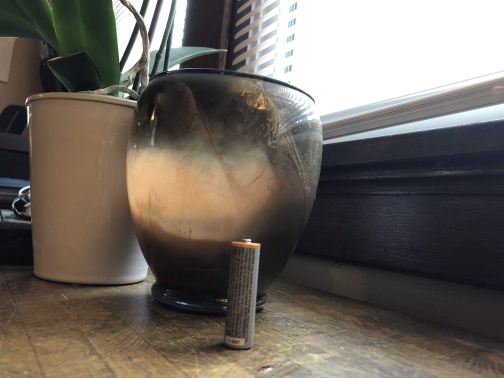battery: (221, 236, 263, 354)
